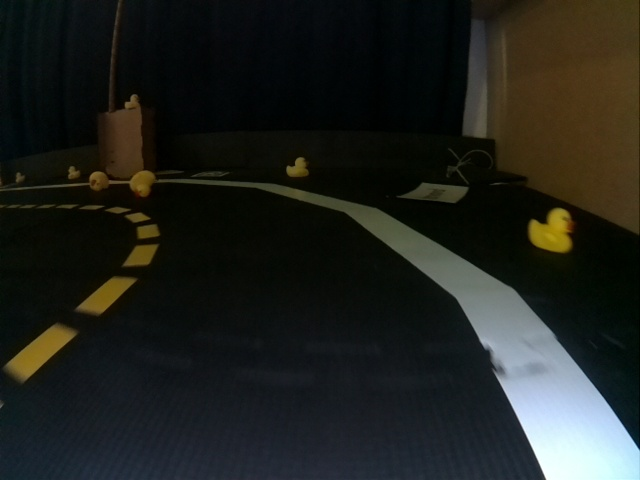Duckie: (530, 208, 575, 253), (130, 172, 153, 194), (287, 158, 309, 177), (89, 172, 107, 190), (124, 94, 140, 108), (68, 166, 80, 179)
QR code: (194, 171, 229, 178)
